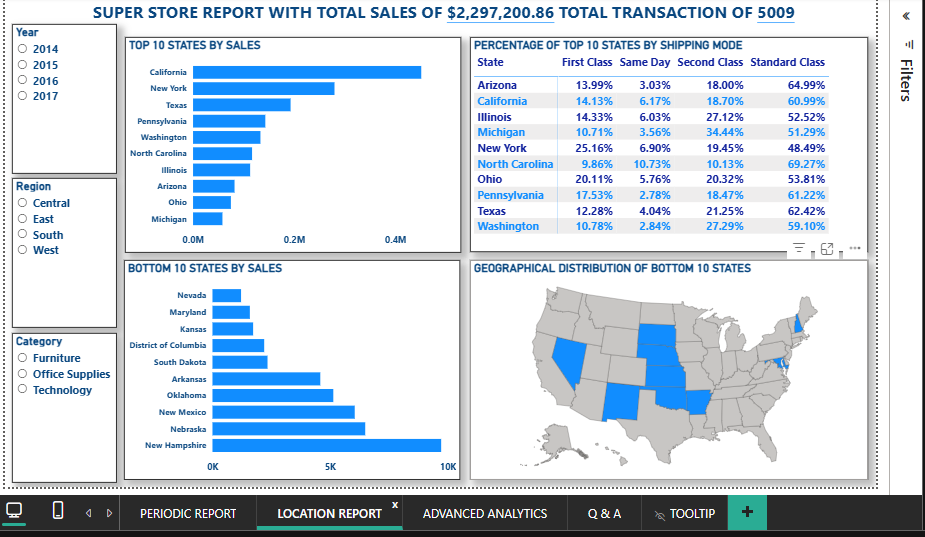

The dashboard page shown, as its layout file describes it:
{"tool":"powerbi","page":{"name":"LOCATION REPORT","canvas":[1280,720],"ordinal":1},"visuals":[{"type":"textbox","box":[10.5,0,1269.5,79],"z":0},{"type":"listSlicer","fields":{"Values":["Shipping Dimension.Order Date.Variation.Date Hierarchy.Year"]},"box":[10.7,39.3,153.7,219.9],"z":1000},{"type":"listSlicer","fields":{"Values":["Customer Dimension.Region"]},"box":[10.7,266.4,153.7,219.9],"z":2000},{"type":"listSlicer","fields":{"Values":["Product Dimension.Category"]},"box":[10.7,493.4,153.7,219.9],"z":3000},{"type":"barChart","title":"TOP 10 STATES BY SALES","fields":{"Category":["Customer Dimension.State"],"Y":["Sum(FACT.Sales)"]},"box":[176.3,58.8,493.7,317.4],"z":4000},{"type":"barChart","title":"BOTTOM 10 STATES BY SALES","fields":{"Category":["Customer Dimension.State"],"Y":["Sum(FACT.Sales)"]},"box":[174.9,386.4,493.7,323.3],"z":5000},{"type":"pivotTable","title":"PERCENTAGE OF TOP 10 STATES BY SHIPPING MODE","fields":{"Rows":["Customer Dimension.State"],"Columns":["Shipping Dimension.Ship Mode"],"Values":["Sum(FACT.Sales)"]},"box":[682.9,59,584.6,316.4],"z":6000},{"type":"shapeMap","title":"GEOGRAPHICAL DISTRIBUTION OF BOTTOM 10 STATES","fields":{"Category":["Customer Dimension.State"]},"box":[683,386,585,323],"z":7000}]}

Visuals, with their boxes on the page's 1280x720 design canvas (x1, y1, x2, y2). These are canvas units, not pixel positions in the 925x537 screenshot, which may show the page scaled, cropped or inside an application window:
textbox: bbox(10, 0, 1280, 79)
listSlicer - Shipping Dimension.Order Date.Variation.Date Hierarchy.Year: bbox(11, 39, 164, 259)
listSlicer - Customer Dimension.Region: bbox(11, 266, 164, 486)
listSlicer - Product Dimension.Category: bbox(11, 493, 164, 713)
"TOP 10 STATES BY SALES" barChart: bbox(176, 59, 670, 376)
"BOTTOM 10 STATES BY SALES" barChart: bbox(175, 386, 669, 710)
"PERCENTAGE OF TOP 10 STATES BY SHIPPING MODE" pivotTable: bbox(683, 59, 1268, 375)
"GEOGRAPHICAL DISTRIBUTION OF BOTTOM 10 STATES" shapeMap: bbox(683, 386, 1268, 709)
